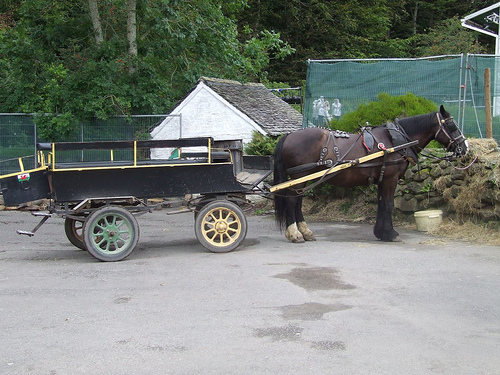horse: (270, 104, 469, 244)
